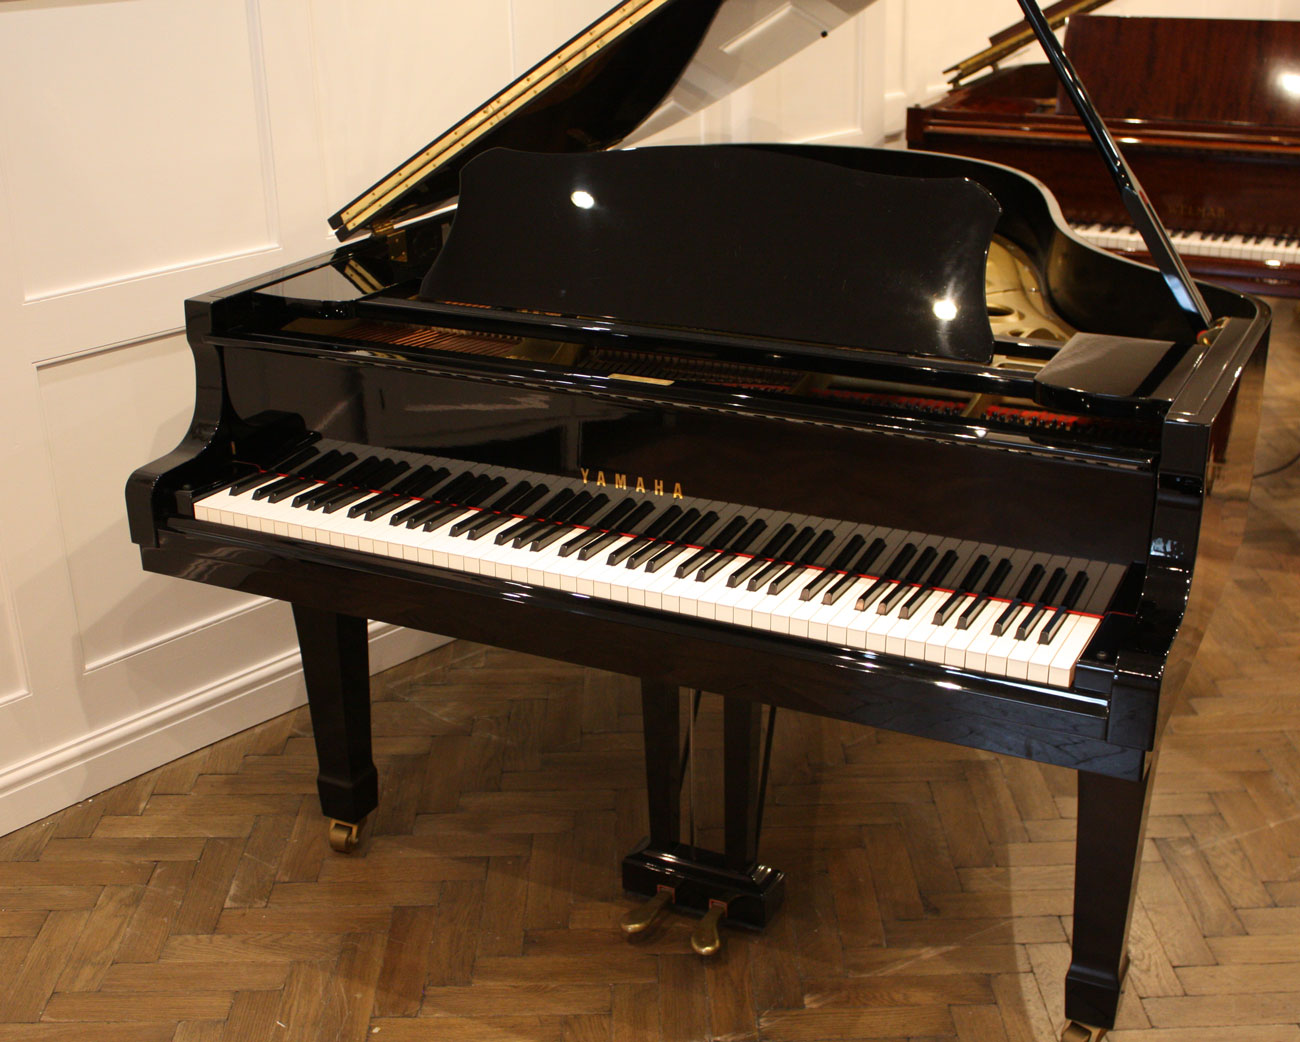GrandPiano: (148, 142, 1277, 760)
